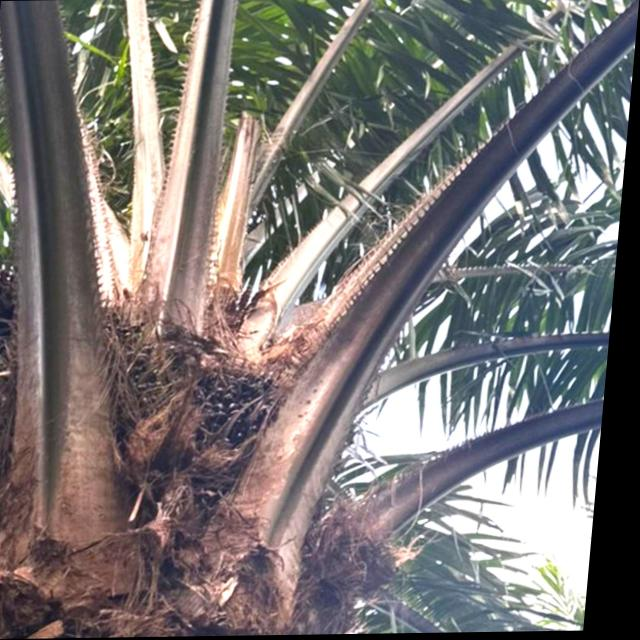unripe: (182, 364, 301, 457)
